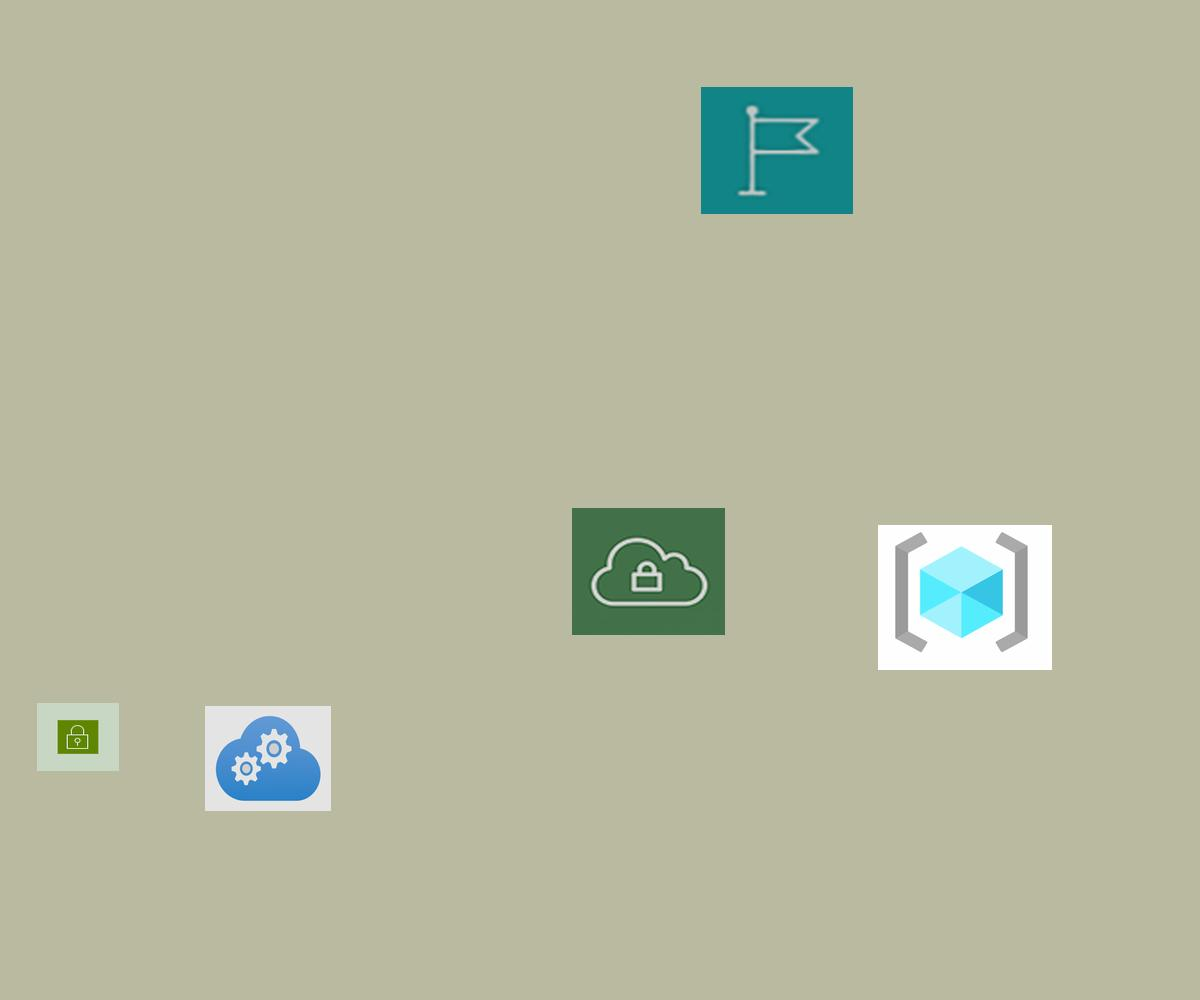AWS-Private_vpc: (572, 508, 725, 635)
AWS-Public-subnet: (37, 703, 119, 771)
AWS-Region: (701, 87, 853, 214)
Azure_cloud_services: (205, 706, 331, 811)
Azure_resource_group: (878, 525, 1052, 670)
